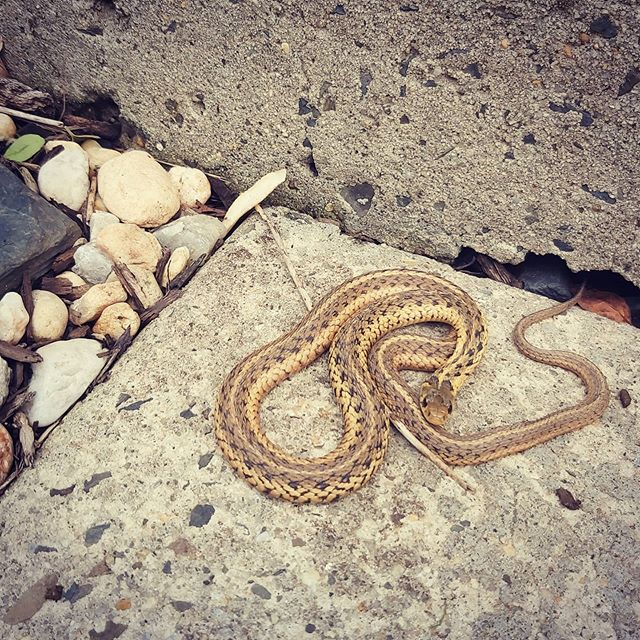animal: (192, 265, 600, 523)
rocks: (1, 125, 173, 420)
